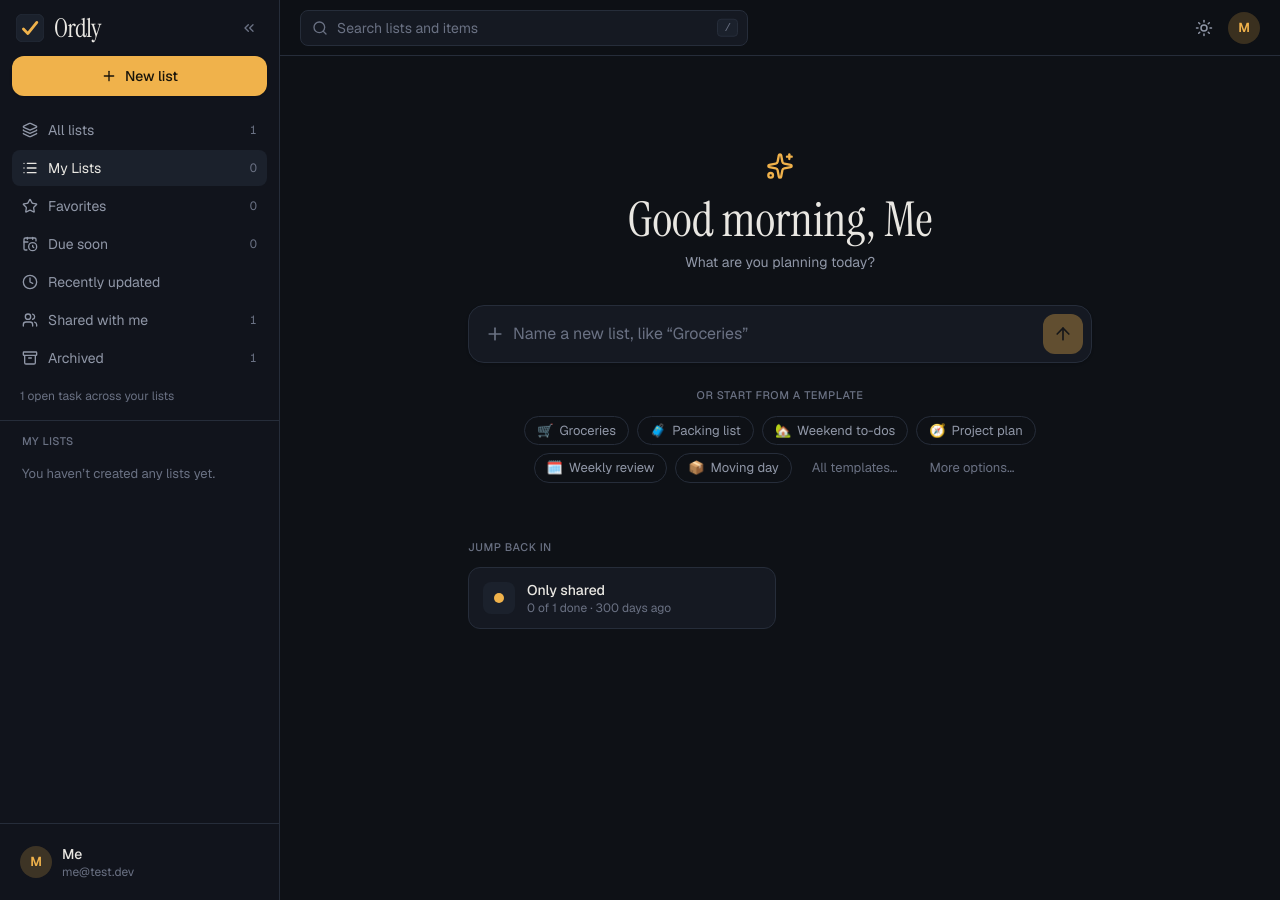
Test: My Lists navigation › shows a clear empty state when you own no non-archived lists
Expected: the navigation bar "lists" is shown, [0, 0, 279, 899]
Expected: the field named "Name for a new list" is shown, [513, 314, 1035, 354]
Click the button "Favorites 0". click: (140, 206)
box: [12, 188, 267, 224]
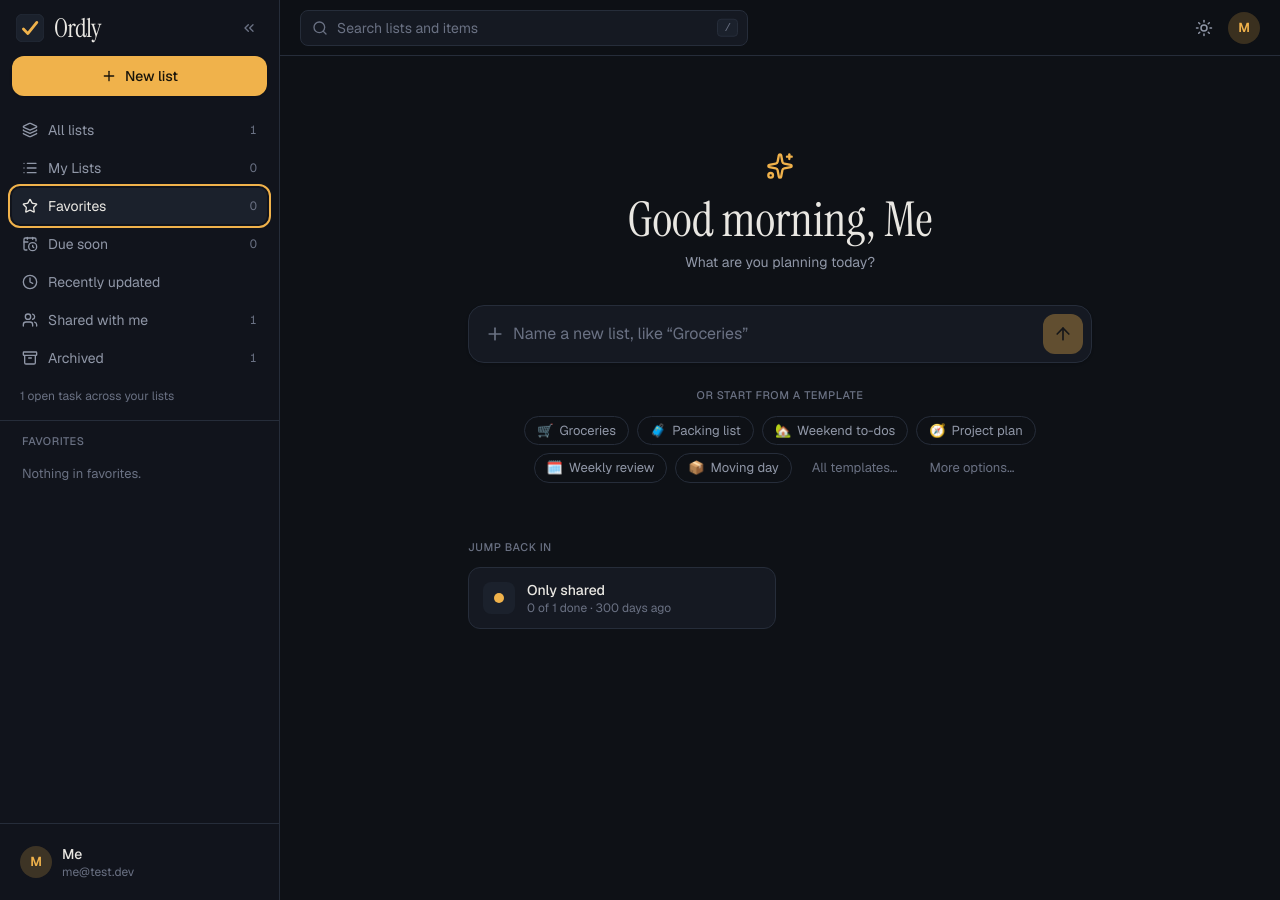
Now the text "Nothing in favorites." is shown, box [22, 464, 141, 482]
